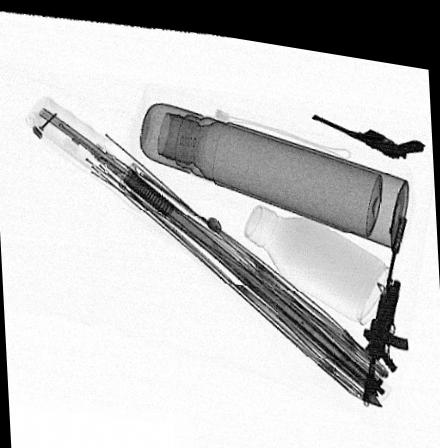Gun: (362, 202, 408, 396), (312, 102, 425, 146)
